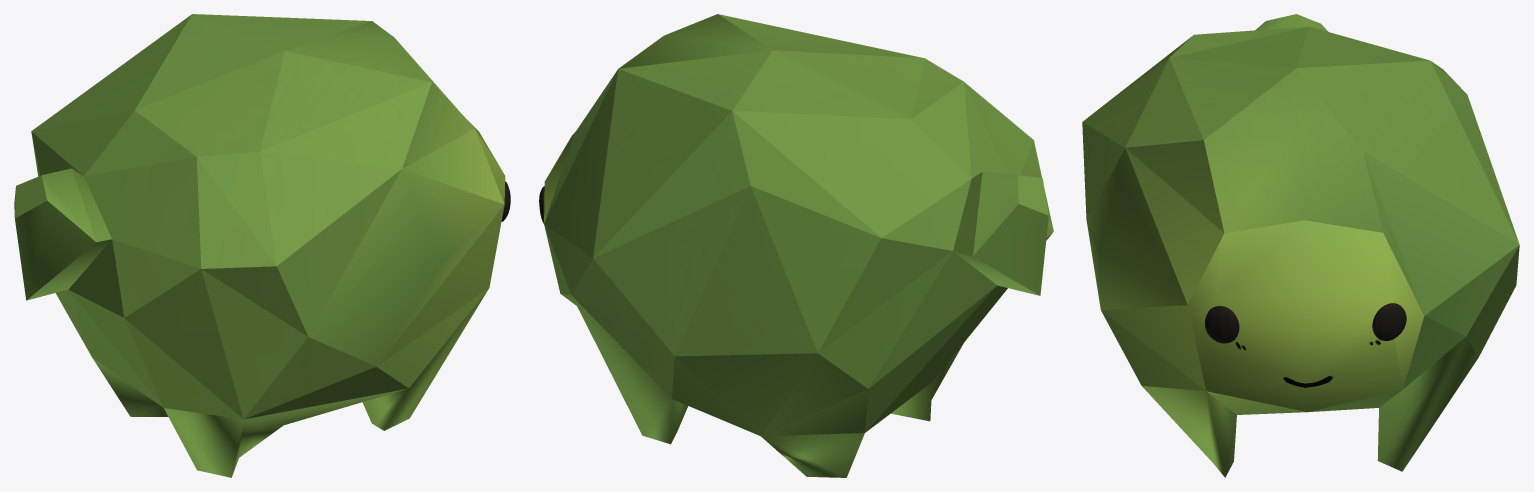
File: bushbaby.fbx
3 views of the same model, side by side, from view 1: azimuth 30°, elevation 25°; view 2: azimuth 150°, elevation 25°; view 3: azimuth 270°, elevation 25° (orthographic).
Parts seen in each view (by area): view 1: bush baby; view 2: bush baby; view 3: bush baby.
Boxes of the visible parts, x1=… form: bush baby: x1=14, y1=14, x2=510, y2=477; bush baby: x1=539, y1=14, x2=1053, y2=477; bush baby: x1=1082, y1=14, x2=1519, y2=477.
Size of the model in its own units: 290 by 216 by 231.
